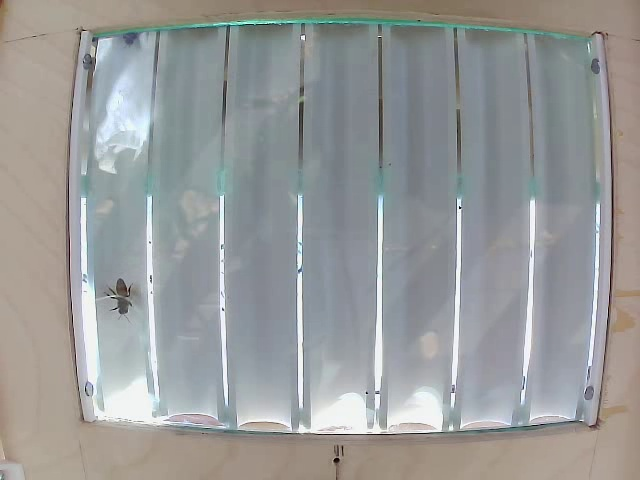bee: (104, 269, 137, 321)
